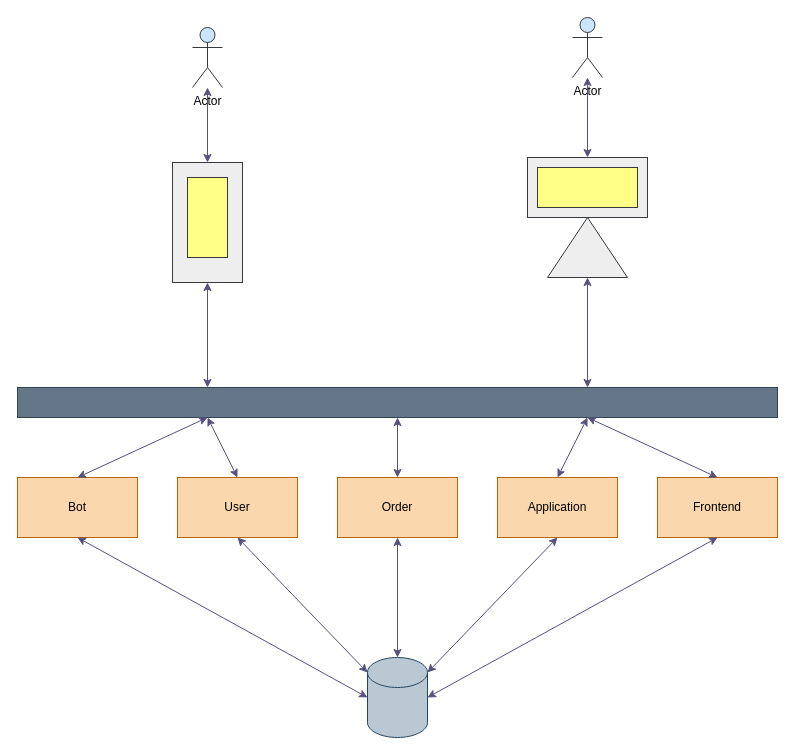
This 795x755 diagram has some shape labels left out. Each missing label, with the box of its shape:
API GATE: (16, 386, 778, 418)
db: (366, 656, 428, 738)
